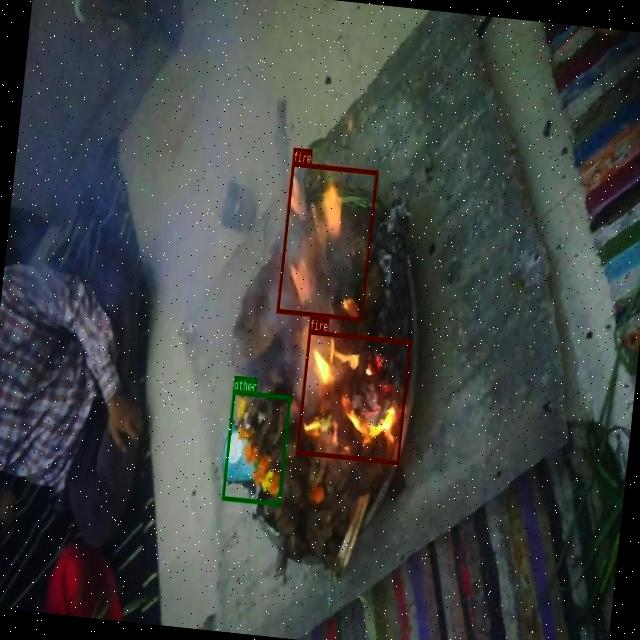fire: (276, 161, 377, 320), (295, 329, 411, 464)
